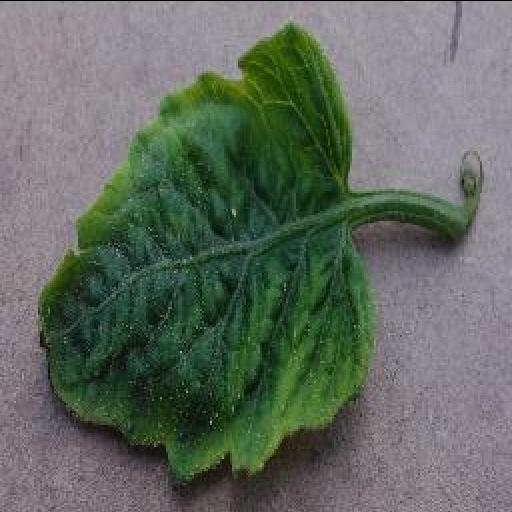disease_tomato: (38, 15, 372, 473)
